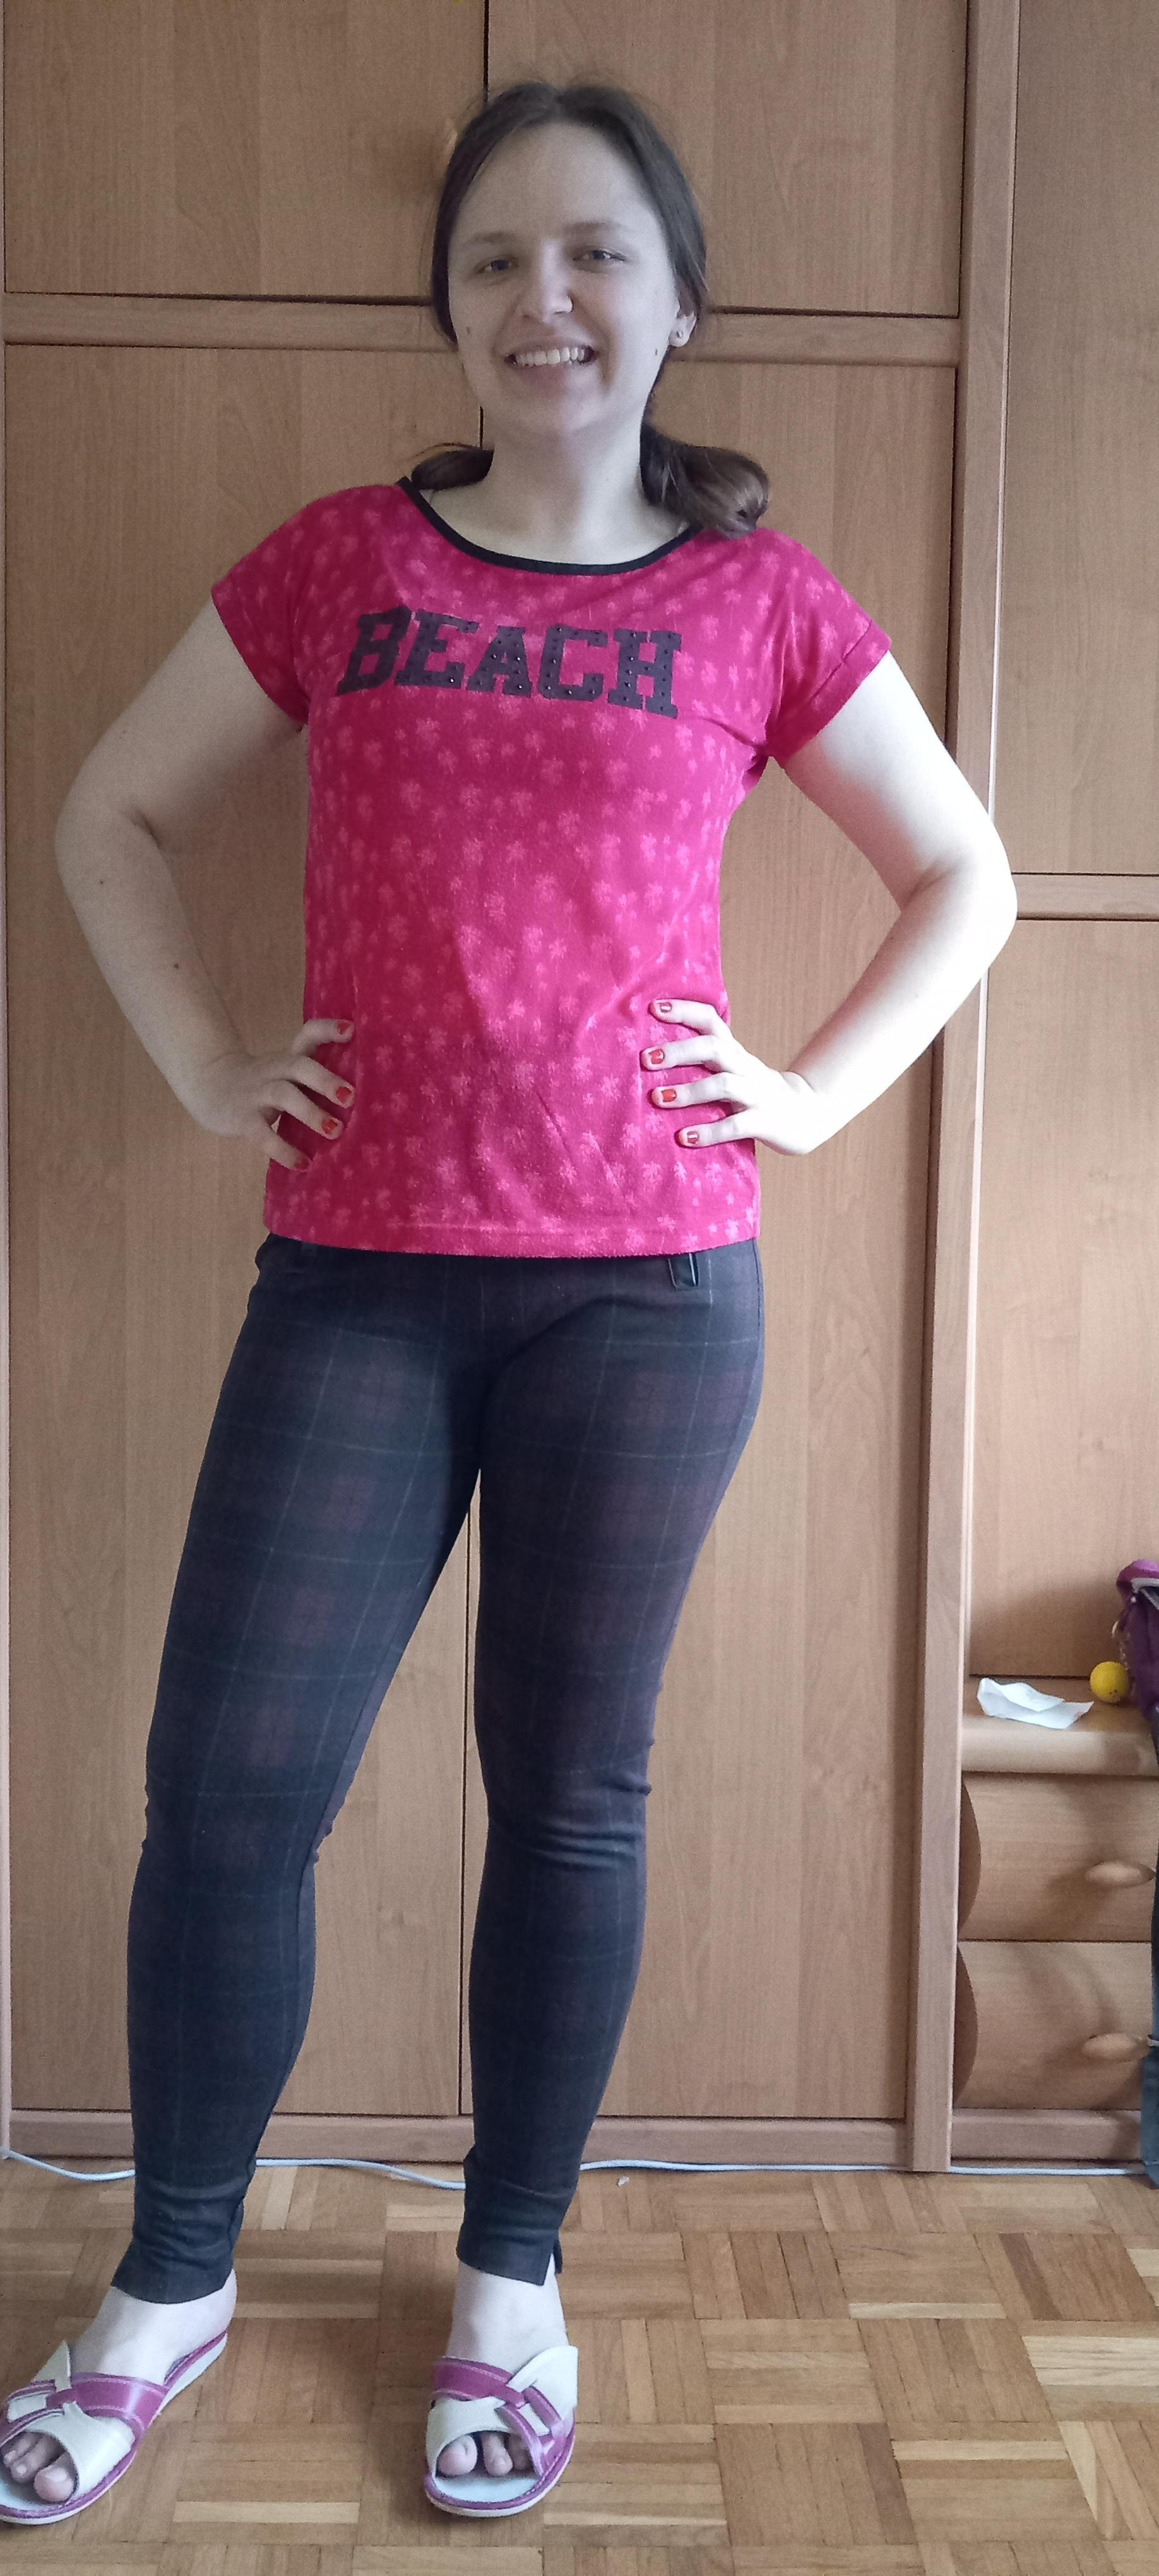Tshirt: (212, 473, 895, 1265)
pants: (110, 1235, 765, 2303)
